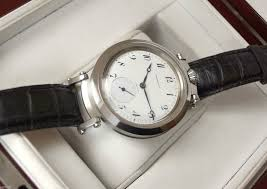clock: (100, 49, 183, 125)
